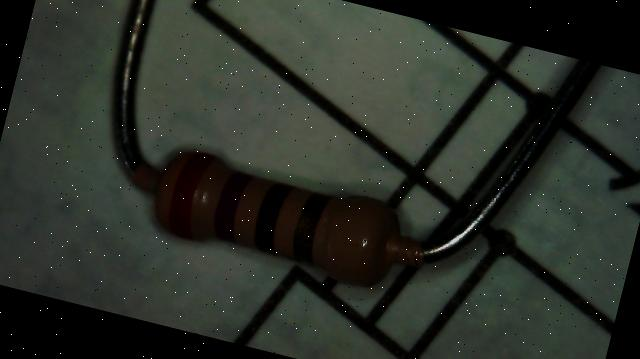brown: (250, 180, 294, 254)
gold: (287, 189, 333, 264)
red: (164, 149, 213, 239)
resistor: (119, 113, 434, 313)
violet: (208, 168, 252, 242)
